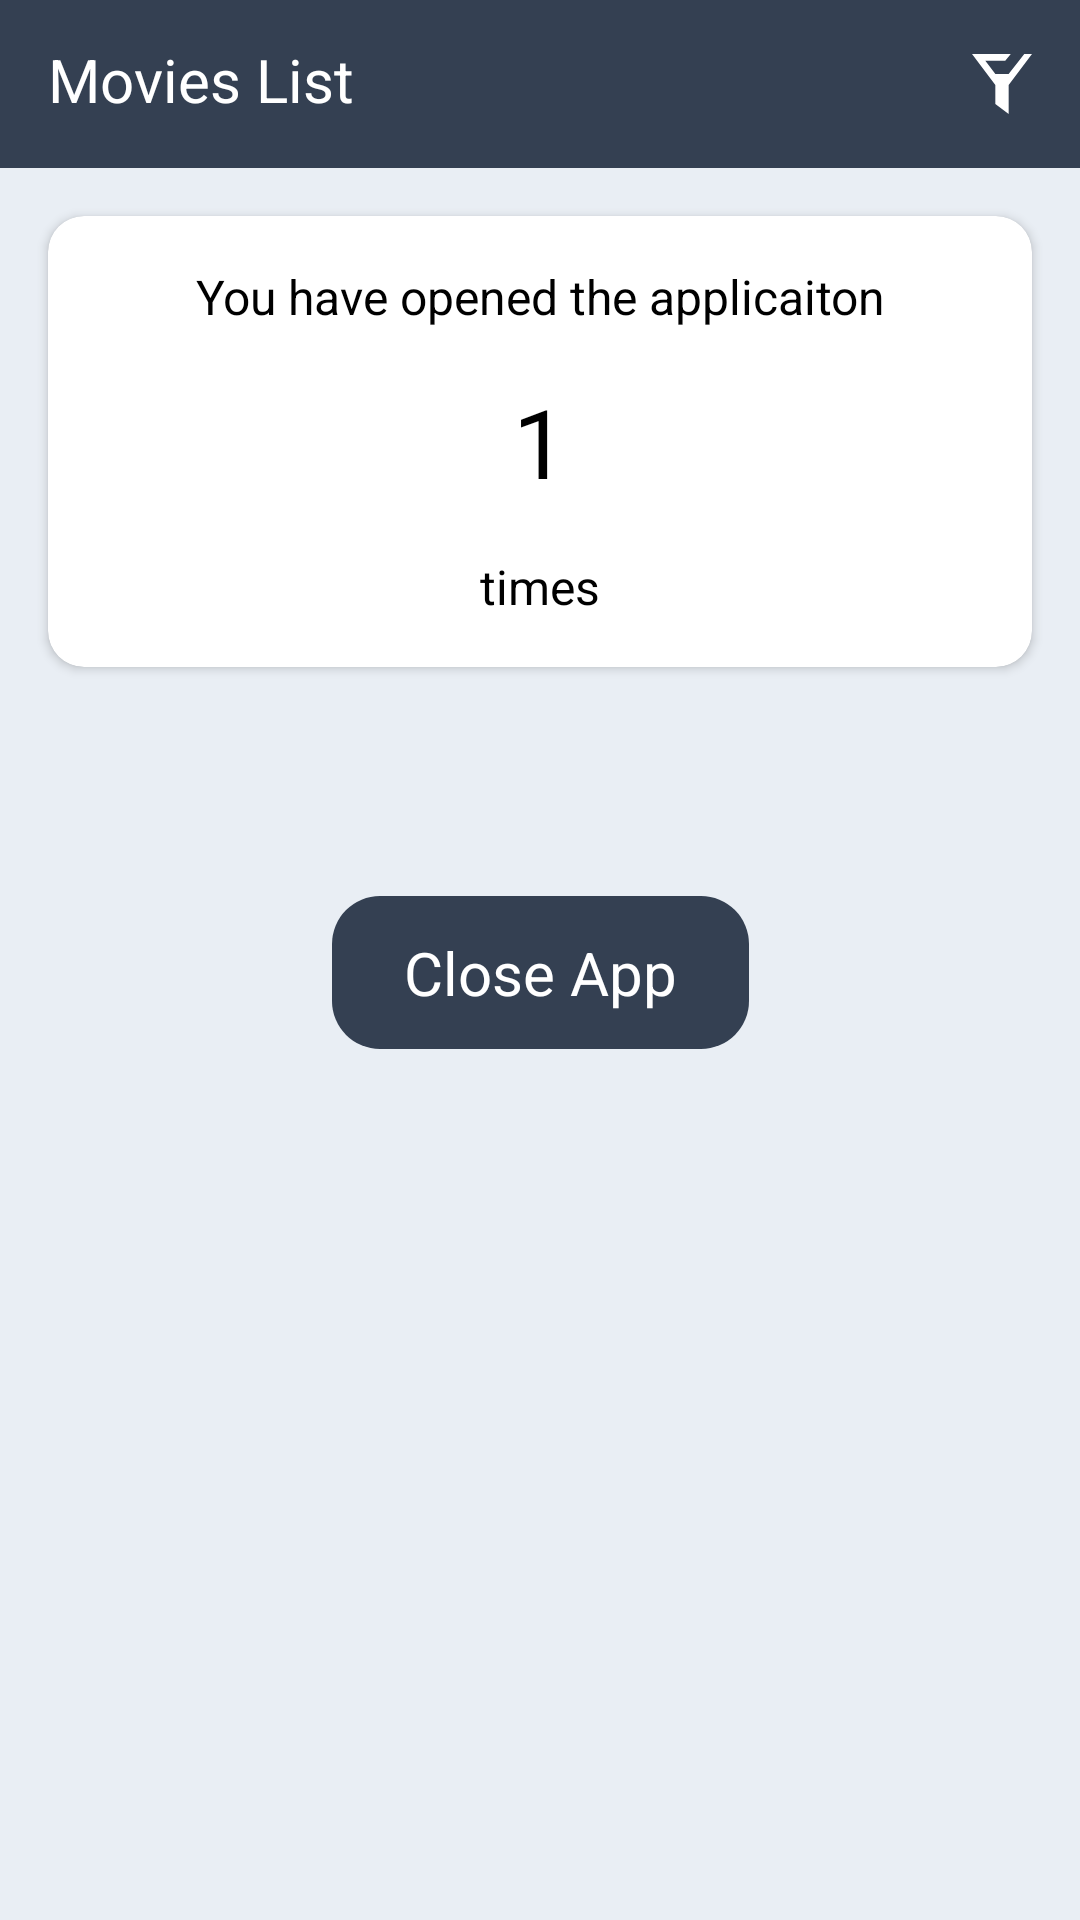

Named icons in this screenshot (1080 x 1920) and their bounding boxes, (x1, y1, x2, y2):
filter: (972, 54, 1032, 114)
